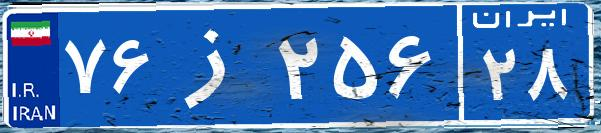2: (273, 28, 330, 110), (475, 38, 525, 113)
5: (330, 28, 385, 110)
6: (385, 28, 445, 110), (110, 28, 158, 105)
7: (57, 26, 110, 107)
8: (525, 38, 570, 115)
ز: (158, 15, 273, 115)
